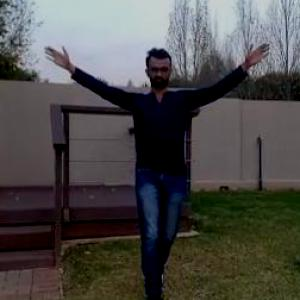takeoff: (42, 44, 263, 288)
